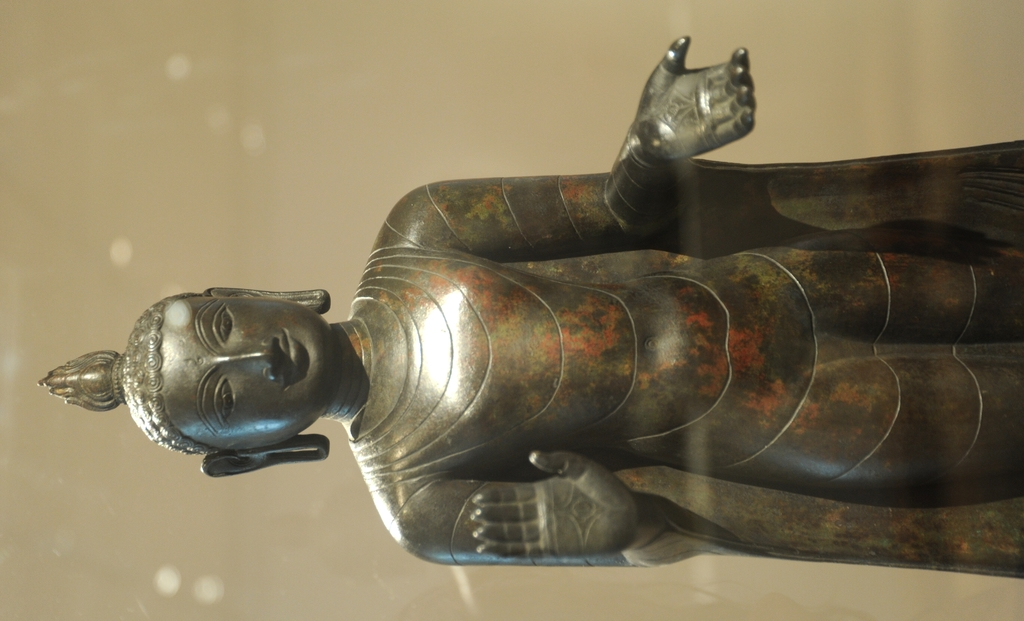Human_hand: (591, 39, 776, 163), (468, 449, 644, 564)
